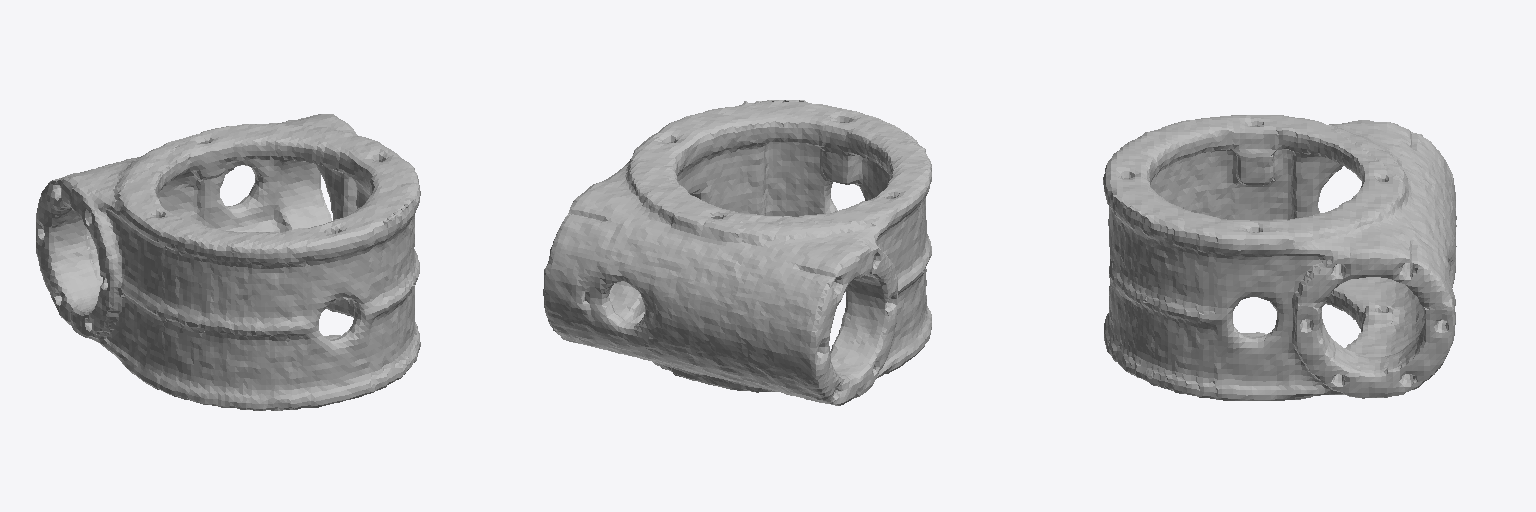
The model's file is RI40_CORPS_deforme.obj.
The picture shows the model from 3 angles: view 1: azimuth 30°, elevation 25°; view 2: azimuth 150°, elevation 25°; view 3: azimuth 270°, elevation 25°; orthographic projection.
Visible parts, largest first — view 1: RI40_CORPS_DEFORME_basRA; view 2: RI40_CORPS_DEFORME_basRA; view 3: RI40_CORPS_DEFORME_basRA.
Part boxes in pixels (x1,y1,x2,y2): RI40_CORPS_DEFORME_basRA: (36,114,420,410); RI40_CORPS_DEFORME_basRA: (543,100,931,405); RI40_CORPS_DEFORME_basRA: (1103,115,1456,400).
Size of the model in its own units: 0.2133 by 0.1221 by 0.2321.